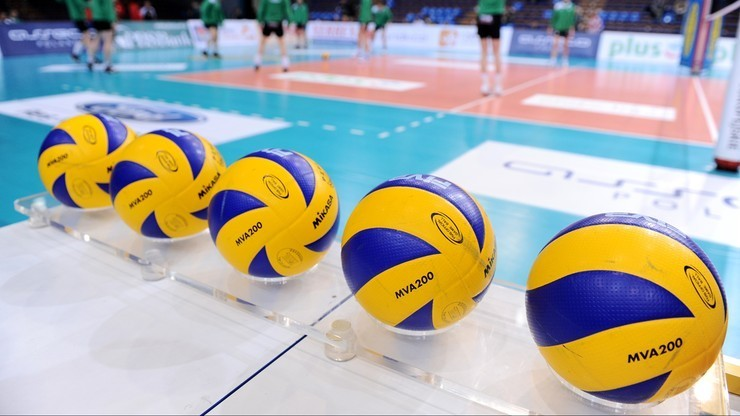ball: (525, 212, 728, 406), (341, 174, 497, 331), (207, 148, 340, 278), (109, 128, 228, 241), (38, 114, 142, 211)
